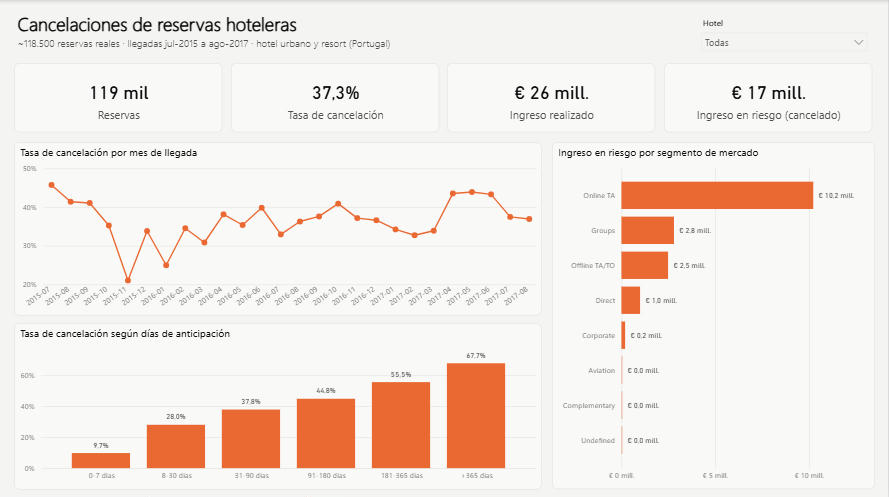

The page's visual inventory and layout, read from the dashboard file:
{"tool":"powerbi","page":{"name":"Resumen de cancelaciones","canvas":[1280,720],"ordinal":0},"visuals":[{"type":"textbox","box":[20,10,900,70],"z":1000},{"type":"slicer","fields":{"Values":["bookings.hotel"]},"box":[1000,18,260,60],"z":2000},{"type":"card","title":"Reservas","fields":{"Values":["_Medidas.Reservas"]},"box":[20,90,300,100],"z":3000},{"type":"card","title":"Tasa de cancelación","fields":{"Values":["_Medidas.Tasa de cancelación"]},"box":[332,90,300,100],"z":4000},{"type":"card","title":"Ingreso realizado","fields":{"Values":["_Medidas.Ingreso realizado"]},"box":[644,90,300,100],"z":5000},{"type":"card","title":"Ingreso en riesgo (cancelado)","fields":{"Values":["_Medidas.Ingreso en riesgo"]},"box":[956,90,300,100],"z":6000},{"type":"lineChart","title":"Tasa de cancelación por mes de llegada","fields":{"Category":["Calendario.Mes"],"Y":["_Medidas.Tasa de cancelación"]},"box":[20,205,760,250],"z":7000},{"type":"clusteredColumnChart","title":"Tasa de cancelación según días de anticipación","fields":{"Category":["bookings.lead_time_band"],"Y":["_Medidas.Tasa de cancelación"]},"box":[20,465,760,240],"z":8000},{"type":"clusteredBarChart","title":"Ingreso en riesgo por segmento de mercado","fields":{"Category":["bookings.market_segment"],"Y":["_Medidas.Ingreso en riesgo"]},"box":[795,205,465,500],"z":9000}]}

Visuals, with their boxes in screenshot pixels (x1, y1, x2, y2), scaled from the page's 1280x720 canvas onto the 889x497 screenshot:
textbox: x1=14 y1=7 x2=639 y2=55
slicer - bookings.hotel: x1=695 y1=12 x2=875 y2=54
"Reservas" card: x1=14 y1=62 x2=222 y2=131
"Tasa de cancelación" card: x1=231 y1=62 x2=439 y2=131
"Ingreso realizado" card: x1=447 y1=62 x2=656 y2=131
"Ingreso en riesgo (cancelado)" card: x1=664 y1=62 x2=872 y2=131
"Tasa de cancelación por mes de llegada" lineChart: x1=14 y1=142 x2=542 y2=314
"Tasa de cancelación según días de anticipación" clusteredColumnChart: x1=14 y1=321 x2=542 y2=487
"Ingreso en riesgo por segmento de mercado" clusteredBarChart: x1=552 y1=142 x2=875 y2=487
